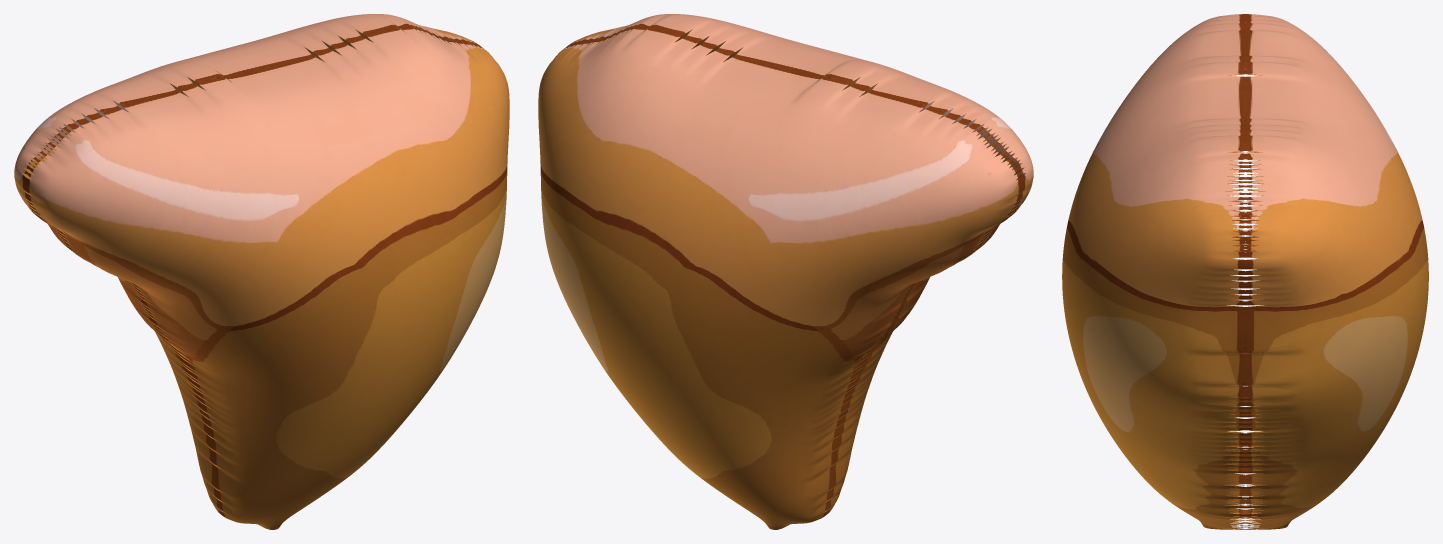
The model's file is amber_ledge.glb.
3 renders of one model, left to right at view 1: azimuth 30°, elevation 25°; view 2: azimuth 150°, elevation 25°; view 3: azimuth 270°, elevation 25°, orthographic.
Parts seen in each view (by area): view 1: amber_ledge; view 2: amber_ledge; view 3: amber_ledge.
Boxes of the visible parts, x1,y1,x2,y2 form: amber_ledge: [14, 14, 509, 529]; amber_ledge: [538, 14, 1033, 529]; amber_ledge: [1062, 14, 1428, 529].
Size of the model in its own units: 0.989 by 0.9125 by 0.6838.
Materials: 1 (1 with a texture image).
